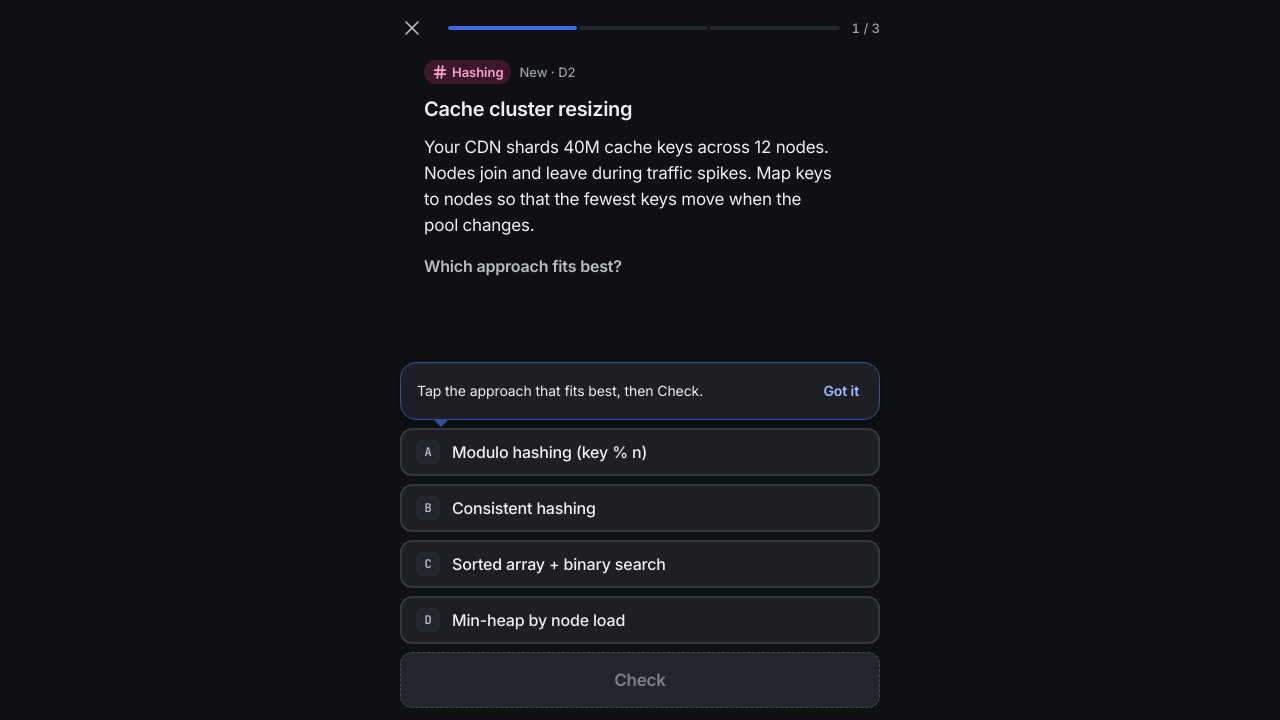
Session: explanation and ending › opens the FeedbackSheet with a focused heading, explanation, complexity and the others (pick first)
Click the radio button labelled "Min-heap by node load".
click(539, 620)  # box [400,596,880,644]
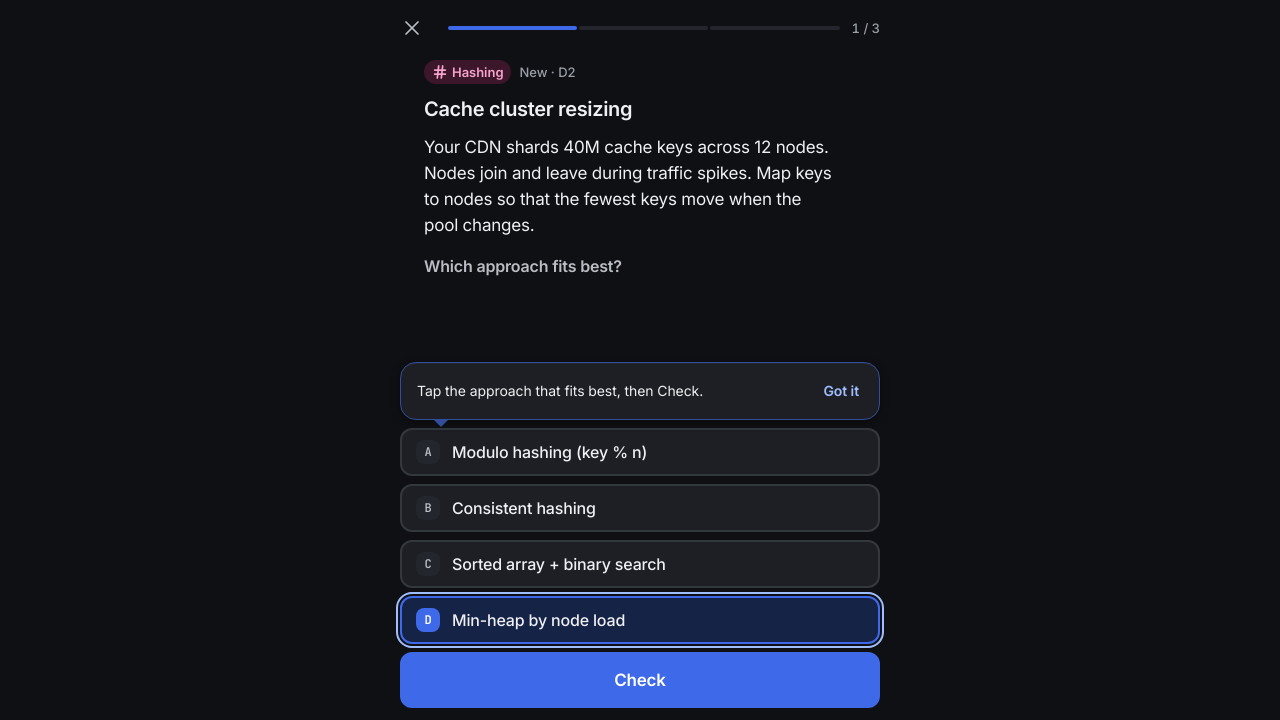
Click the button "Check".
click(640, 680)  # box [400,652,880,708]
Wait 400 ms
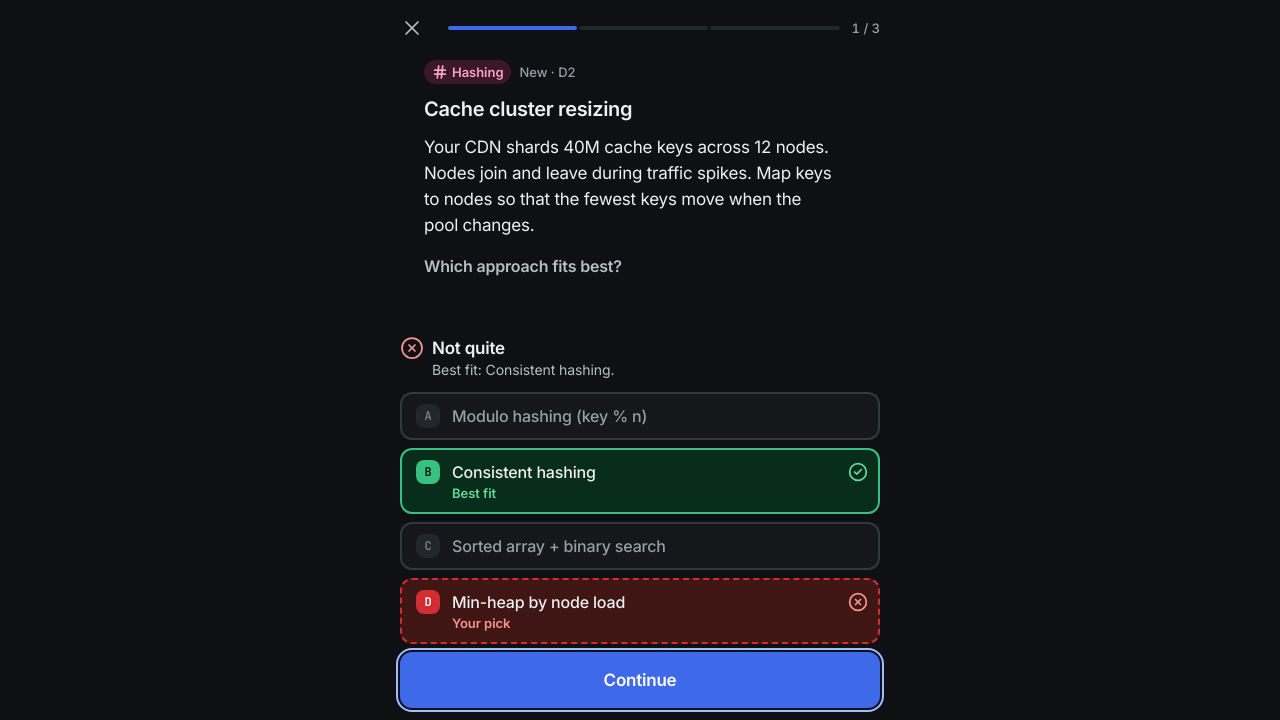
Click the button "Continue".
click(640, 680)  # box [400,652,880,708]
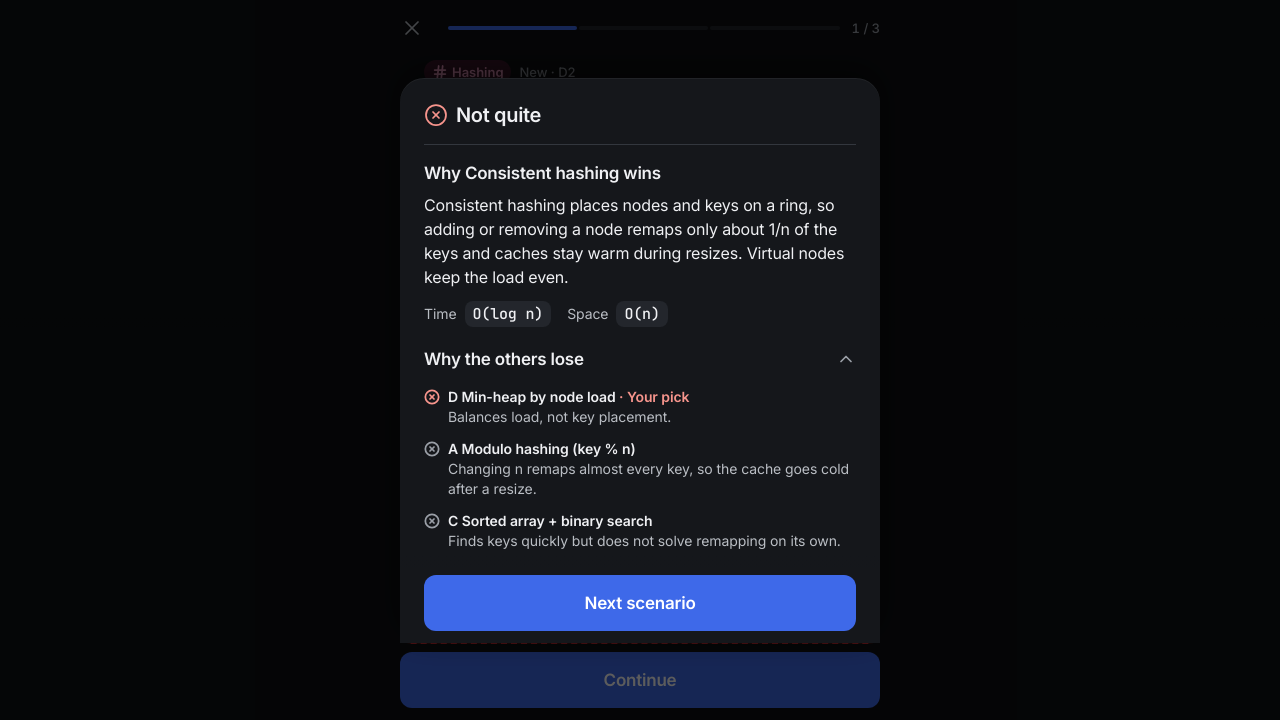
Expected: the heading "Why Consistent hashing wins" is shown, [424,162,661,182]
Expected: the text "places nodes and keys on a ring" is shown, [424,194,844,286]
Expected: the number of list items is 3, [424,388,690,424]; [424,438,856,498]; [424,510,856,550]
